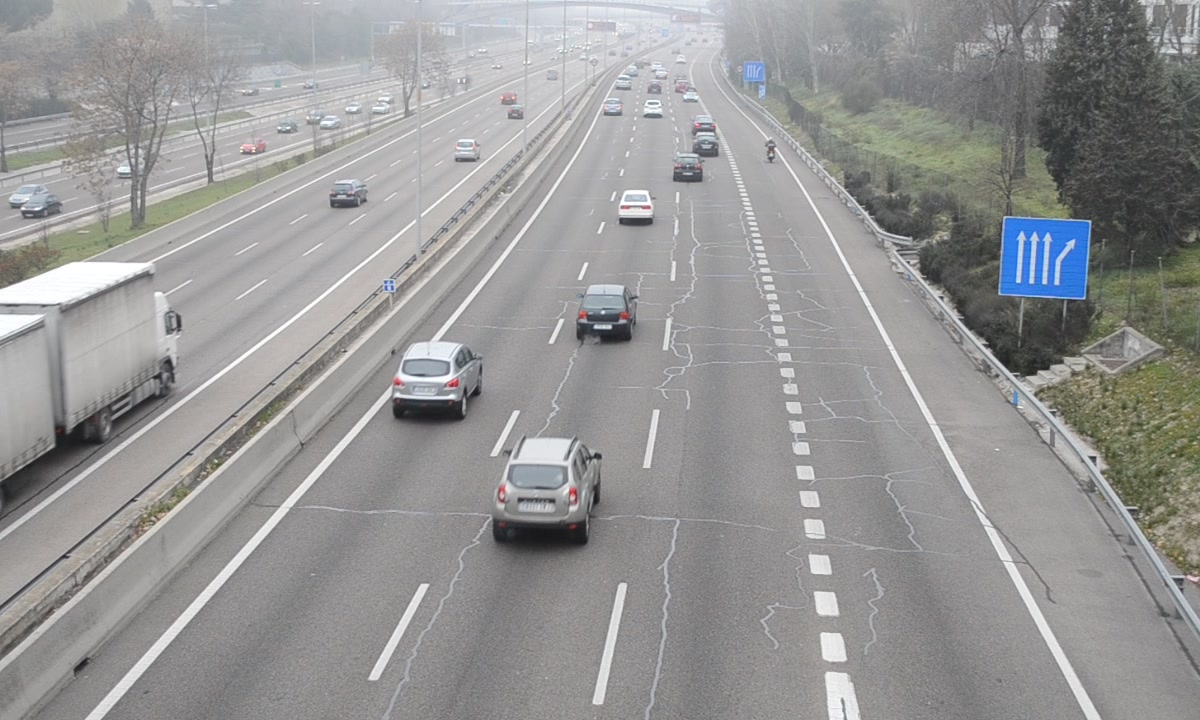car: (494, 437, 600, 529), (391, 342, 484, 402), (575, 284, 636, 341), (618, 188, 653, 221), (671, 153, 703, 183), (693, 132, 722, 156)
motorcycle: (765, 137, 778, 164)
